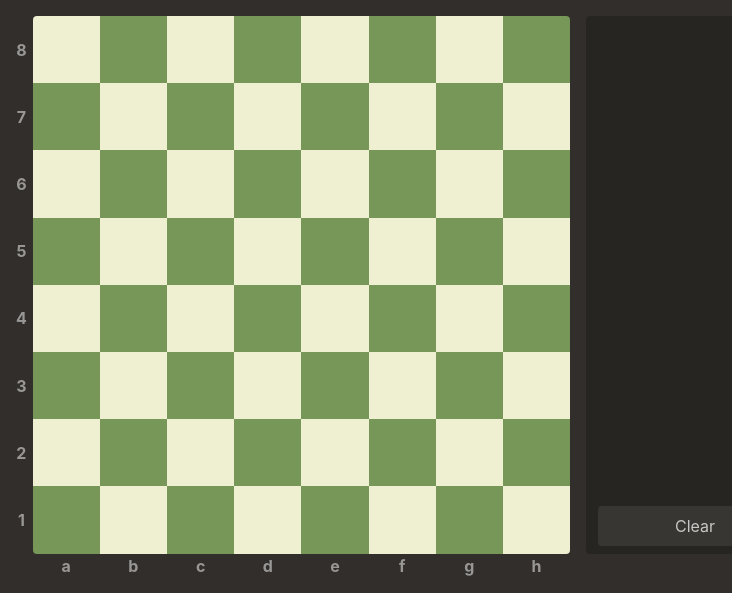
Test: sidebar › after the chessboard is clicked › squares are displayed on sidebar
Click the element with test id "chessboard__square--a8": (67, 50) x1=33 y1=16 x2=100 y2=83
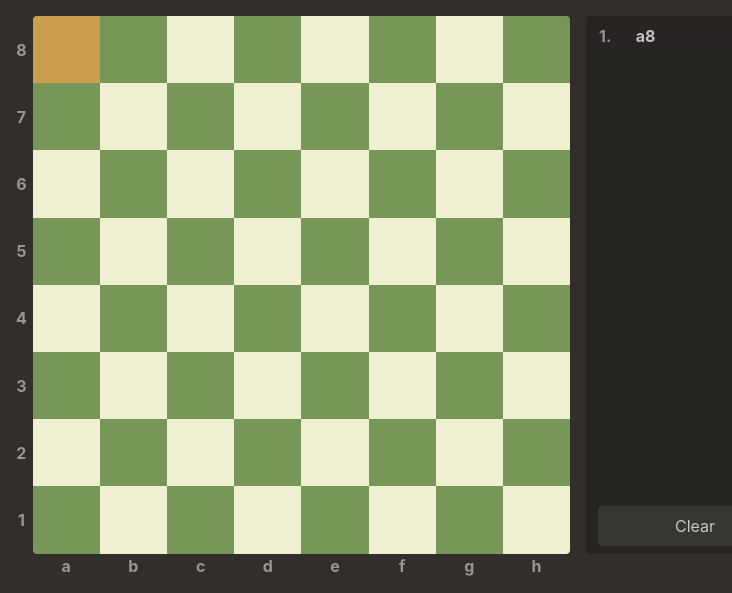
Expected: the text with class "sidebar__row__square" reads "a8", x1=636 y1=26 x2=656 y2=46
